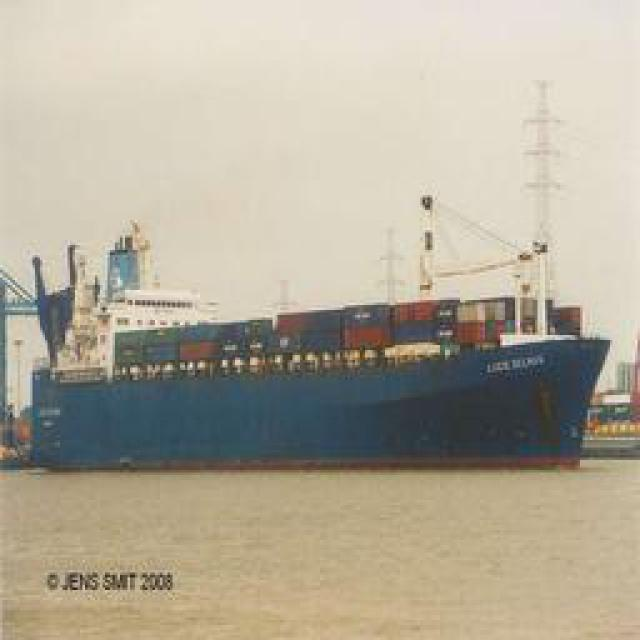Ship: (20, 240, 620, 468)
